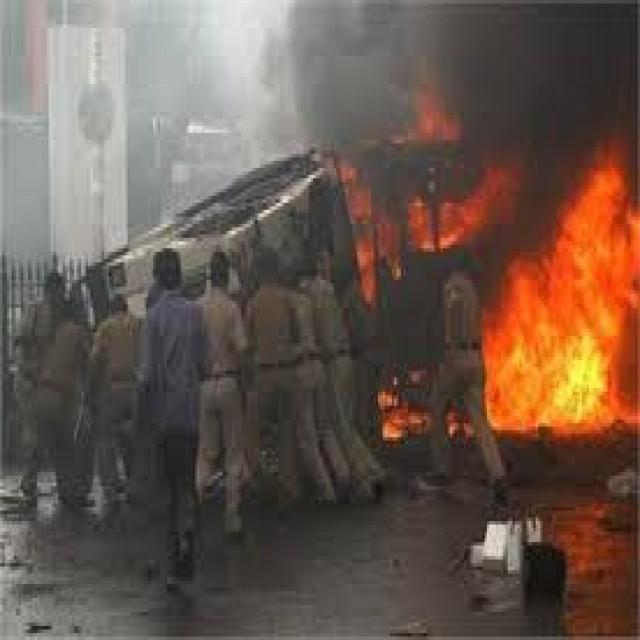Fire: (487, 244, 640, 430), (344, 150, 407, 304), (559, 140, 640, 245), (411, 193, 478, 252), (478, 155, 528, 228), (412, 89, 462, 146), (378, 392, 430, 438), (447, 406, 474, 444)
Smoke: (266, 0, 420, 145), (418, 0, 639, 90), (461, 88, 640, 144), (529, 142, 560, 222)
